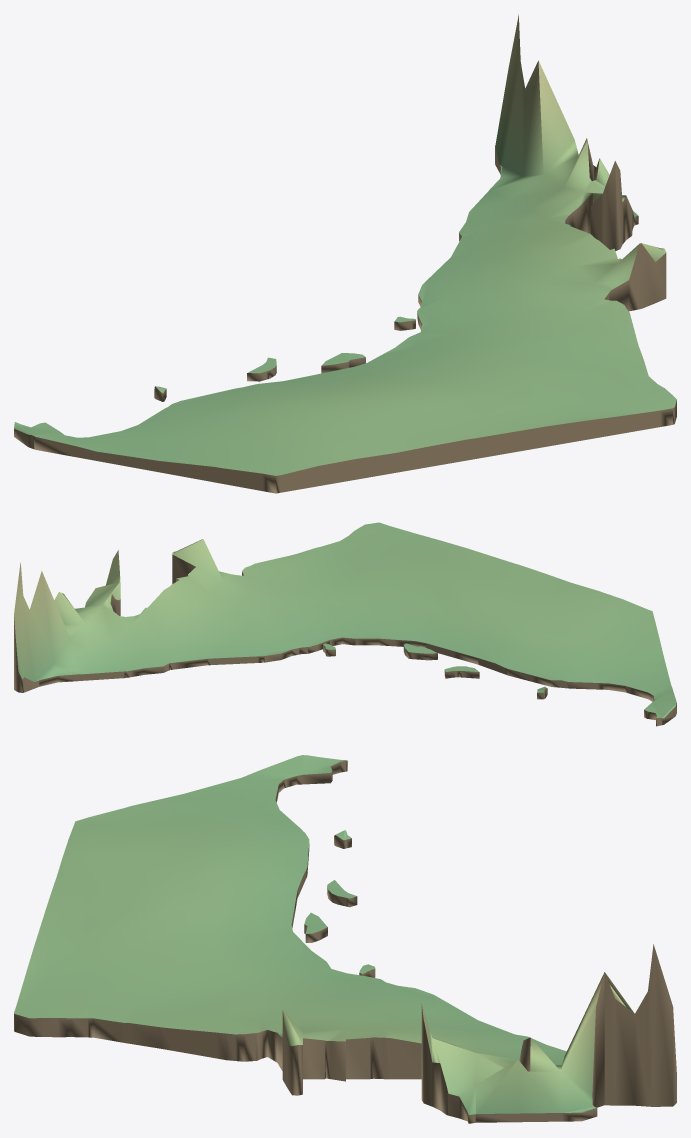
The model's file is ARE.glb.
3 views of the same model, one above another, from view 1: azimuth 30°, elevation 25°; view 2: azimuth 150°, elevation 25°; view 3: azimuth 270°, elevation 25° (orthographic). The views are drawn at different scales.
Parts seen in each view (by area): view 1: ARE; view 2: ARE; view 3: ARE.
Part boxes in pixels (left/top/right/bottom): ARE: left=14, top=14, right=676, bottom=493; ARE: left=14, top=522, right=676, bottom=726; ARE: left=14, top=755, right=676, bottom=1123.
Bounding box in the file's own units: 1.58 × 0.338 × 1.24.
